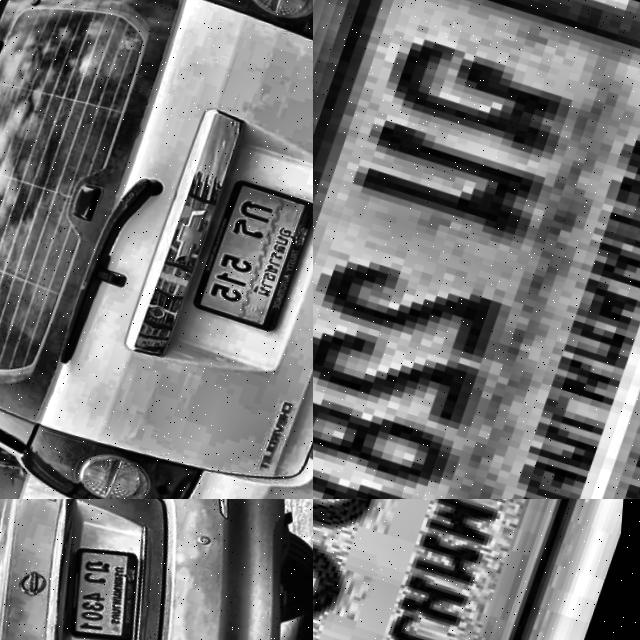license-plate: (313, 0, 640, 499), (313, 499, 640, 640), (194, 170, 313, 332), (45, 528, 169, 640)
